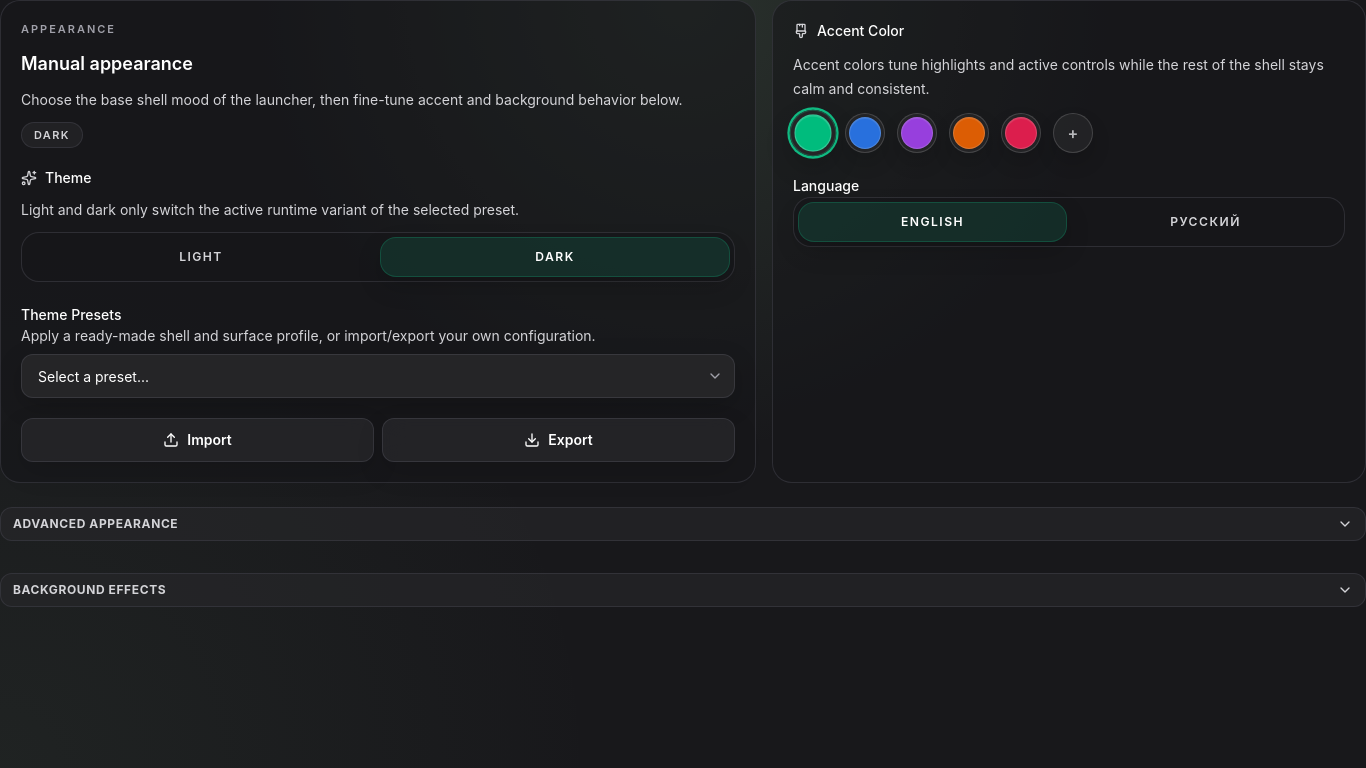
Test: AppearanceTab preset contract › keeps the preset identity when switching theme mode and repaints to that preset variant
Select "Midnight" in the dropdown named "Theme Presets" at {"x": 378, "y": 376}, box [21,354,735,398]
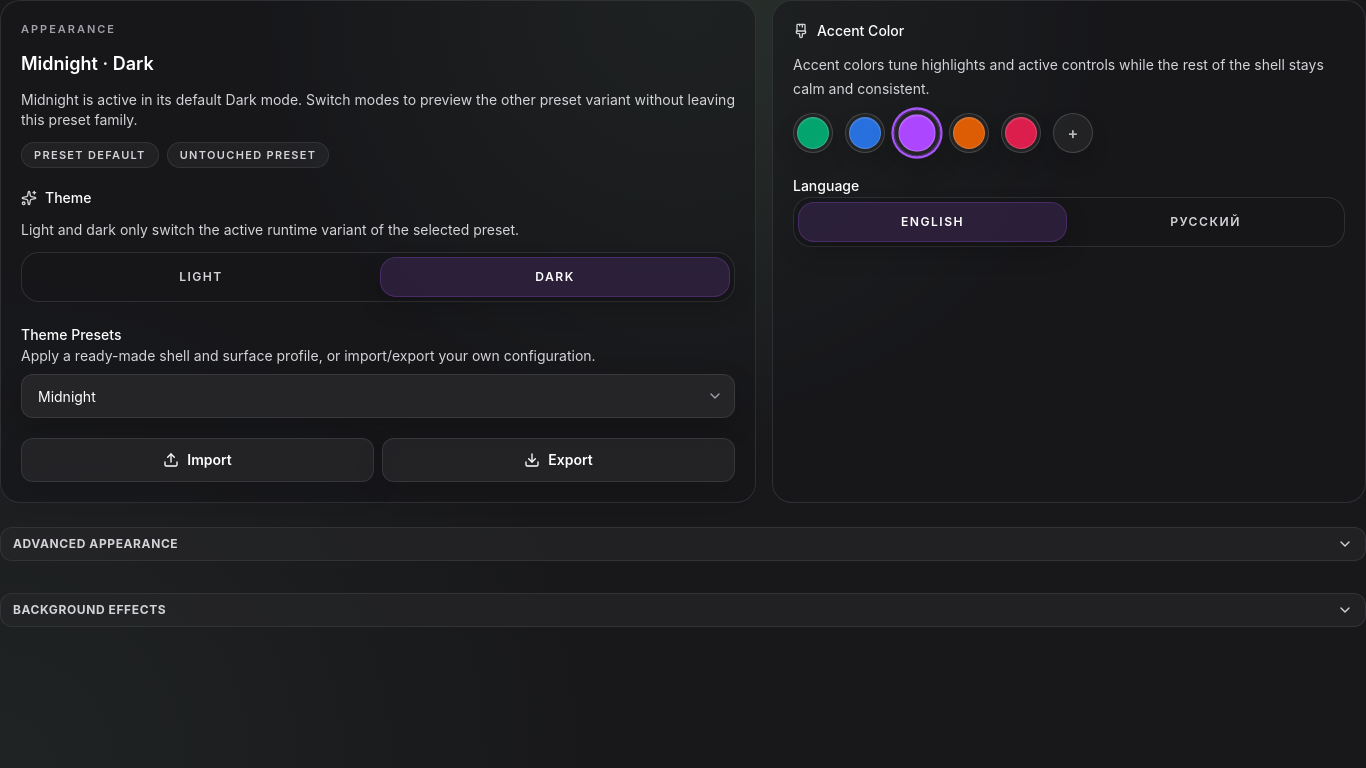
Click the button "Light" at {"x": 201, "y": 277}, box [26,257,376,297]
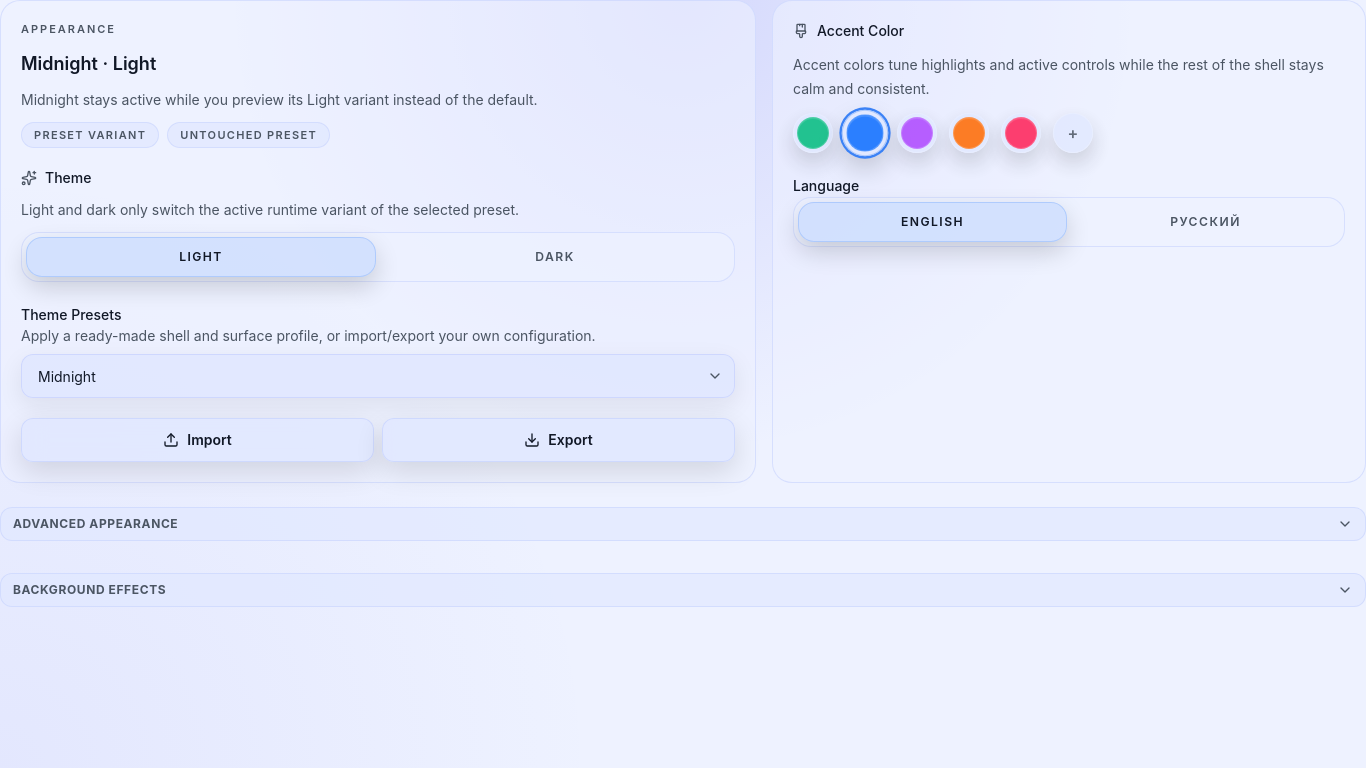
Now the heading "Midnight · Light" is shown, box [21,50,156,78]
Now the text "Preset variant" is shown, box [21,122,159,148]
